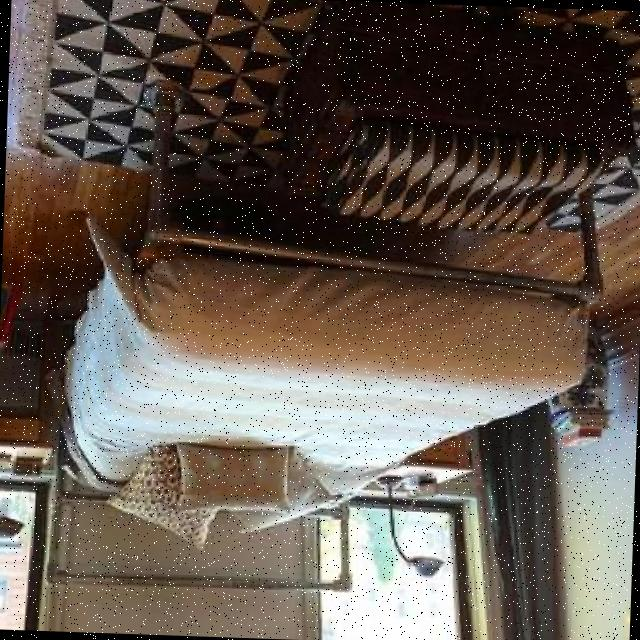Bed: (25, 10, 634, 617)
